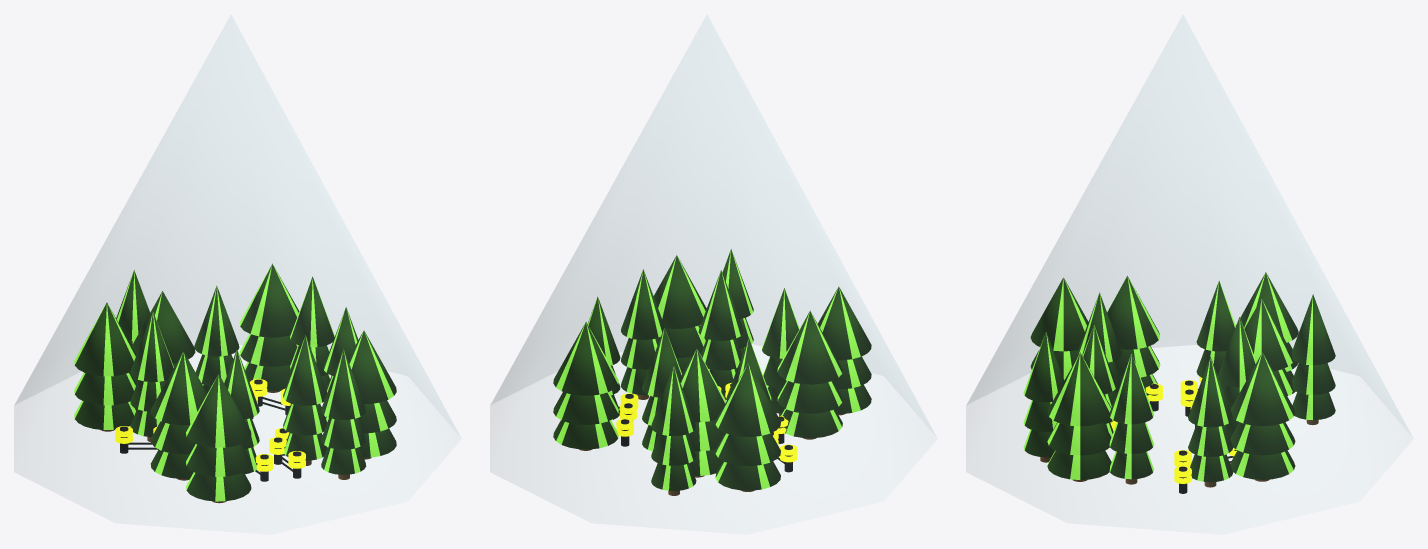
Rendered from park3.glb.
3 renders of one model, left to right at view 1: azimuth 30°, elevation 25°; view 2: azimuth 150°, elevation 25°; view 3: azimuth 270°, elevation 25°, orthographic.
Parts seen in each view (by area): view 1: Park3; view 2: Park3; view 3: Park3.
Boxes of the visible parts, left/top/right/bottom form: Park3: left=14, top=15, right=460, bottom=534; Park3: left=490, top=15, right=936, bottom=533; Park3: left=966, top=15, right=1412, bottom=534.
Bounding box in the file's own units: 52.91 × 54.56 × 52.11.
